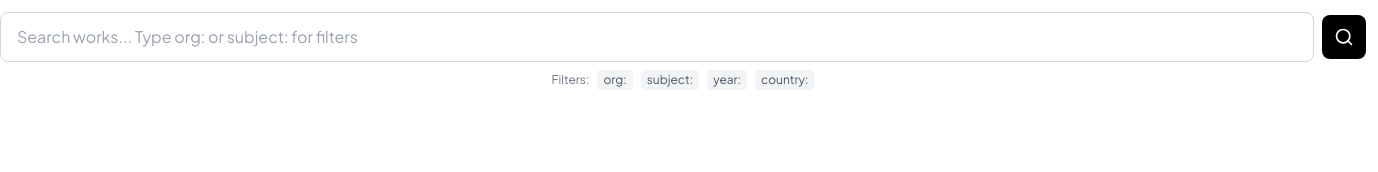
Test case: FieldedSearchBar › Field Prefix Detection › detects org: prefix and shows suggestions
In the field with placeholder "Search works... Type org: or subject: for filters": (657, 37) [13, 21, 1301, 53], type "org:"
Wait 100 ms
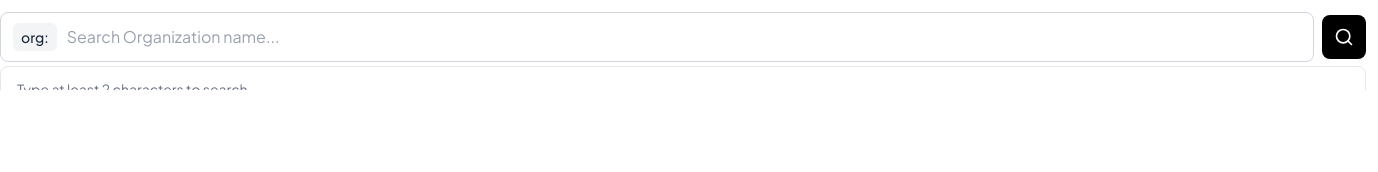
Now the field with placeholder "Search Organization name..." is shown, box [63, 21, 1301, 53]
